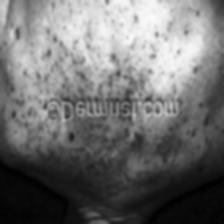Non-Cancerous Skin Condition: (19, 0, 193, 95), (47, 123, 172, 183)
